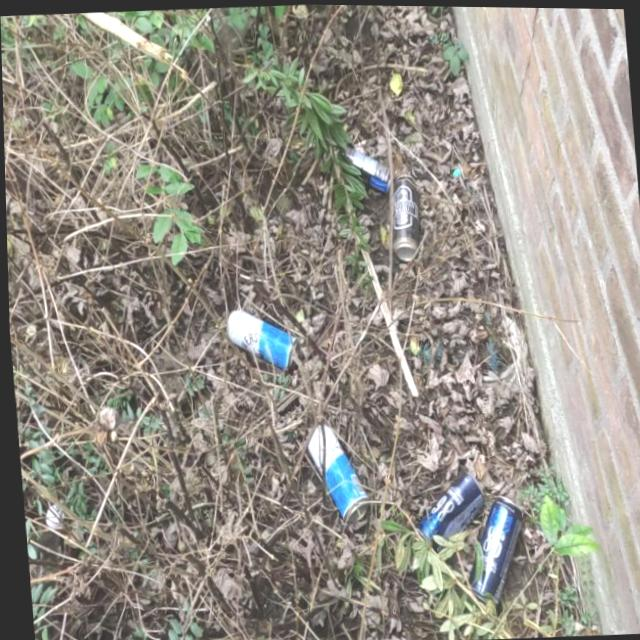Can-Metal: (457, 492, 528, 608), (407, 466, 487, 555), (303, 421, 369, 525), (222, 304, 300, 375), (385, 171, 424, 262), (340, 143, 391, 195)
